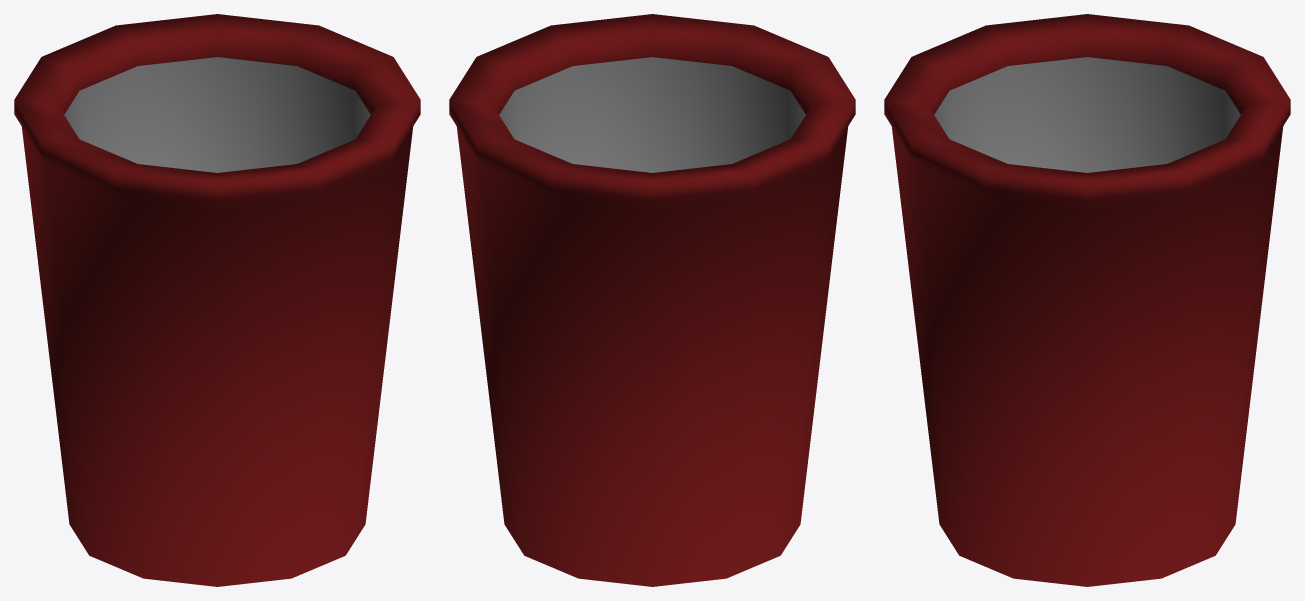
Rendered from Trash_Cup2.fbx.
3 views of the same model, side by side, from view 1: azimuth 30°, elevation 25°; view 2: azimuth 150°, elevation 25°; view 3: azimuth 270°, elevation 25° (orthographic).
Visible parts, largest first — view 1: Cup; view 2: Cup; view 3: Cup.
Boxes of the visible parts, x1=… form: Cup: x1=14, y1=14, x2=420, y2=586; Cup: x1=449, y1=14, x2=855, y2=586; Cup: x1=884, y1=14, x2=1290, y2=586.
Size of the model in its own units: 124 by 143 by 124.
